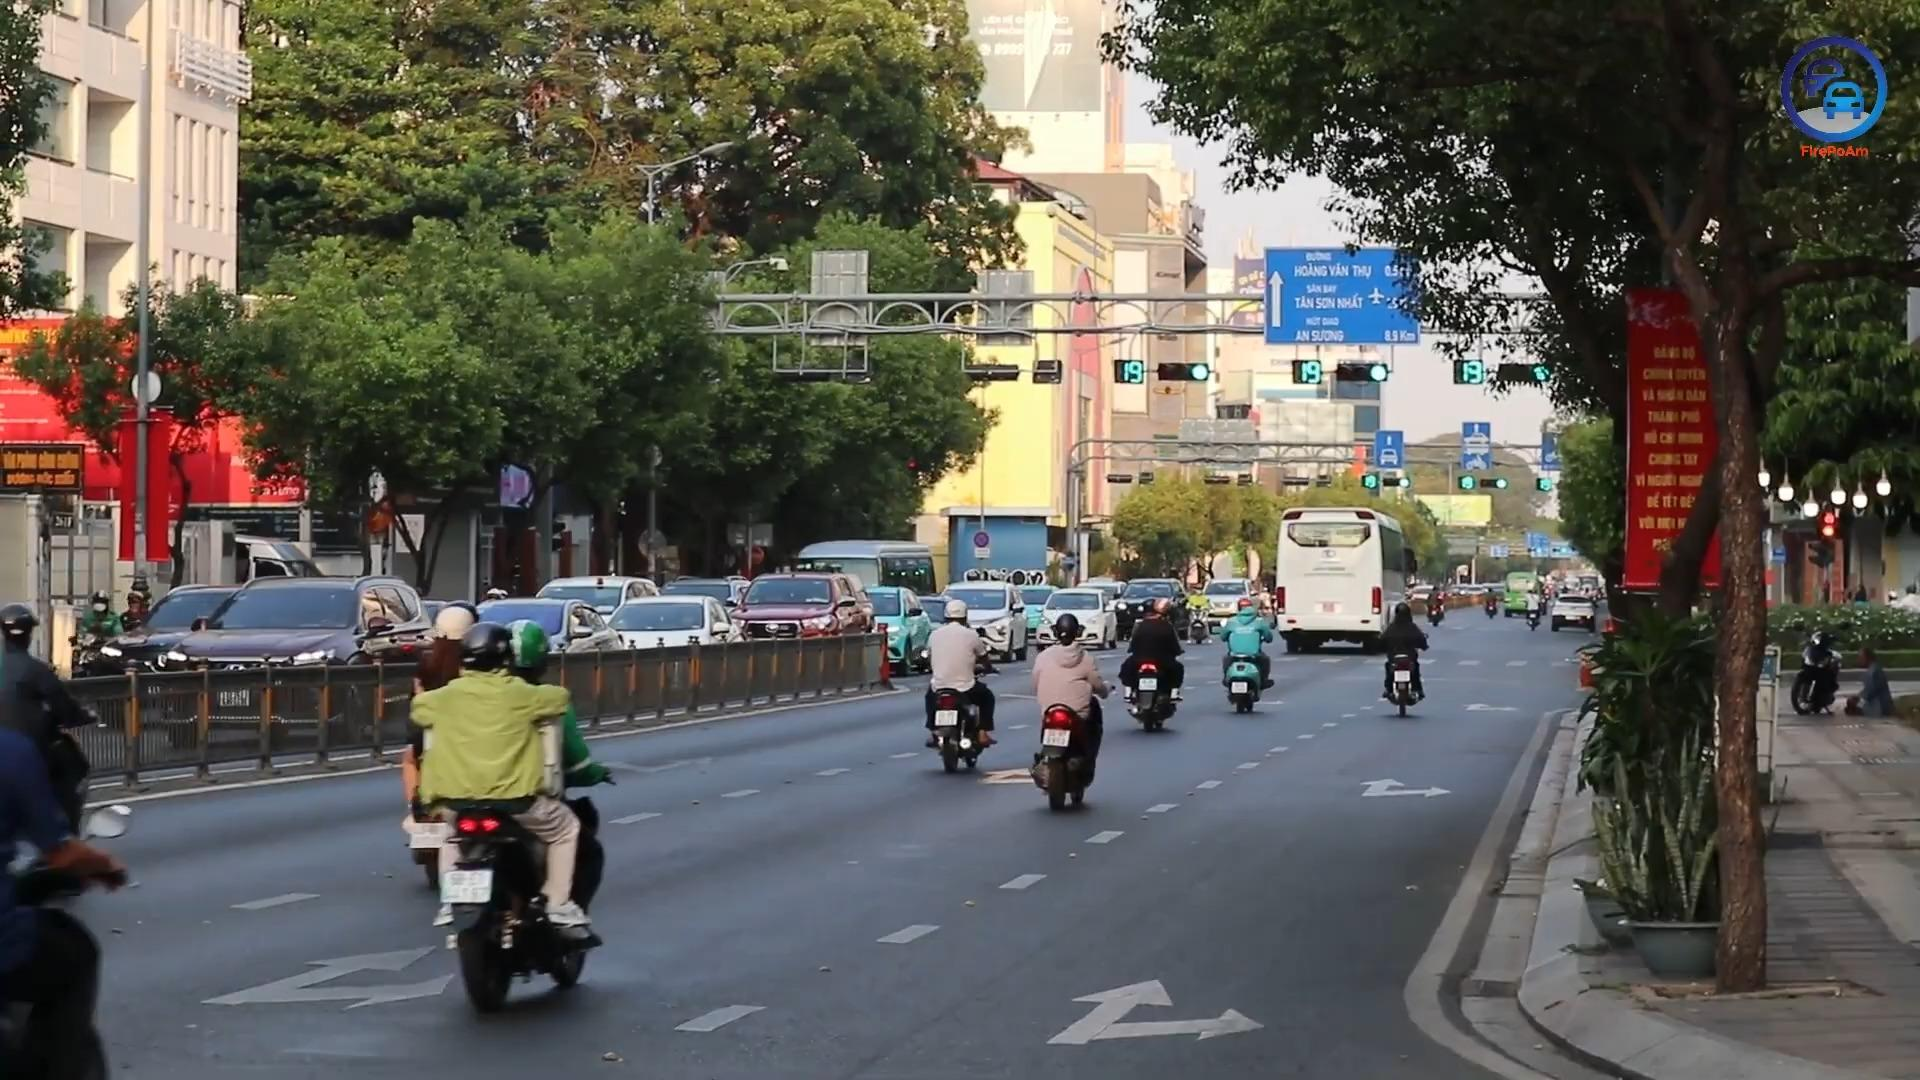bien_so: (438, 867, 495, 904), (1042, 728, 1071, 748), (934, 709, 959, 727), (1138, 677, 1158, 691), (1393, 669, 1411, 683), (1231, 681, 1248, 694)
